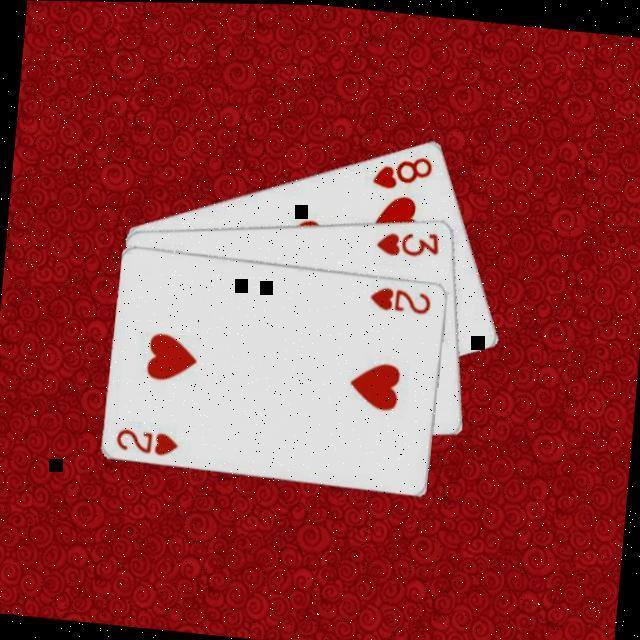2H: (365, 281, 434, 318), (112, 425, 181, 460)
3H: (371, 223, 443, 262)
8H: (367, 148, 435, 195)
